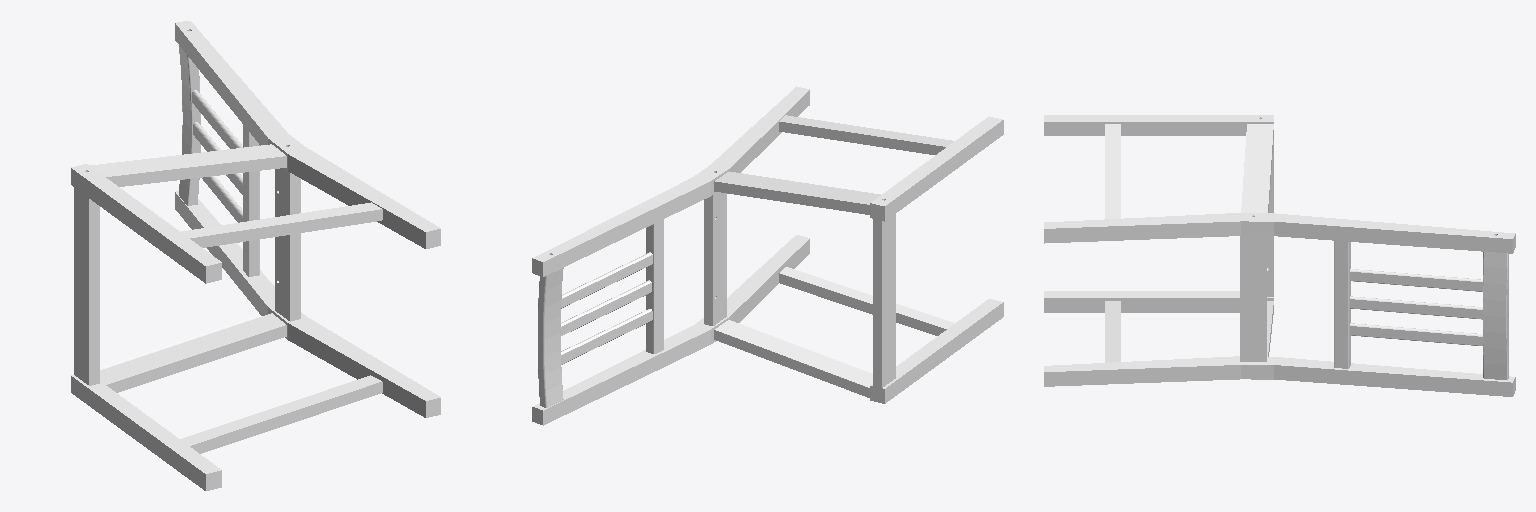
robot.urdf — ikea_stefan_without_bottom:
<?xml version="1.0" ?>
<robot name="ikea_stefan_without_bottom">
  <link name="object_link">
    <inertial>
      <origin rpy="0 0 0" xyz="0.2 0.45 -0.25"/>
       <mass value="12.28"/>
       <inertia ixx="0" ixy="0" ixz="0" iyy="0" iyz="0" izz="0"/>
    </inertial>
    <visual>
      <origin rpy="0 0 0" xyz="0 0 0"/>
      <geometry>
				<mesh filename="ikea_stefan_without_bottom.stl" scale="1 1 1"/>
      </geometry>
       <material name="white">
        <color rgba="1 1 1 1"/>
      </material>
    </visual>
    <collision>
      <origin rpy="0 0 0" xyz="0 0 0"/>
      <geometry>
      <mesh filename="ikea_stefan_without_bottom.stl" scale="1 1 1"/>
      </geometry>
    </collision>
  </link>
</robot>

--- Facts derived from the render (not from the file) ---
Views: 3 orthographic renders of the robot side by side, from view 1: azimuth 30°, elevation 25°; view 2: azimuth 150°, elevation 25°; view 3: azimuth 270°, elevation 25°.
Robot: ikea_stefan_without_bottom — 1 links, 0 joints (none); root link object_link; default pose: all joints at 0.
Visible links, largest first — view 1: object_link; view 2: object_link; view 3: object_link.
Link boxes in pixels (bbox=[...]): object_link: bbox=[71, 21, 440, 490]; object_link: bbox=[532, 86, 1003, 425]; object_link: bbox=[1044, 115, 1515, 396].
Size in the robot's own frame: 0.4854 by 0.895 by 0.4005 metres.
1 mesh visuals loaded from 1 distinct referenced files (1 binary STL).
